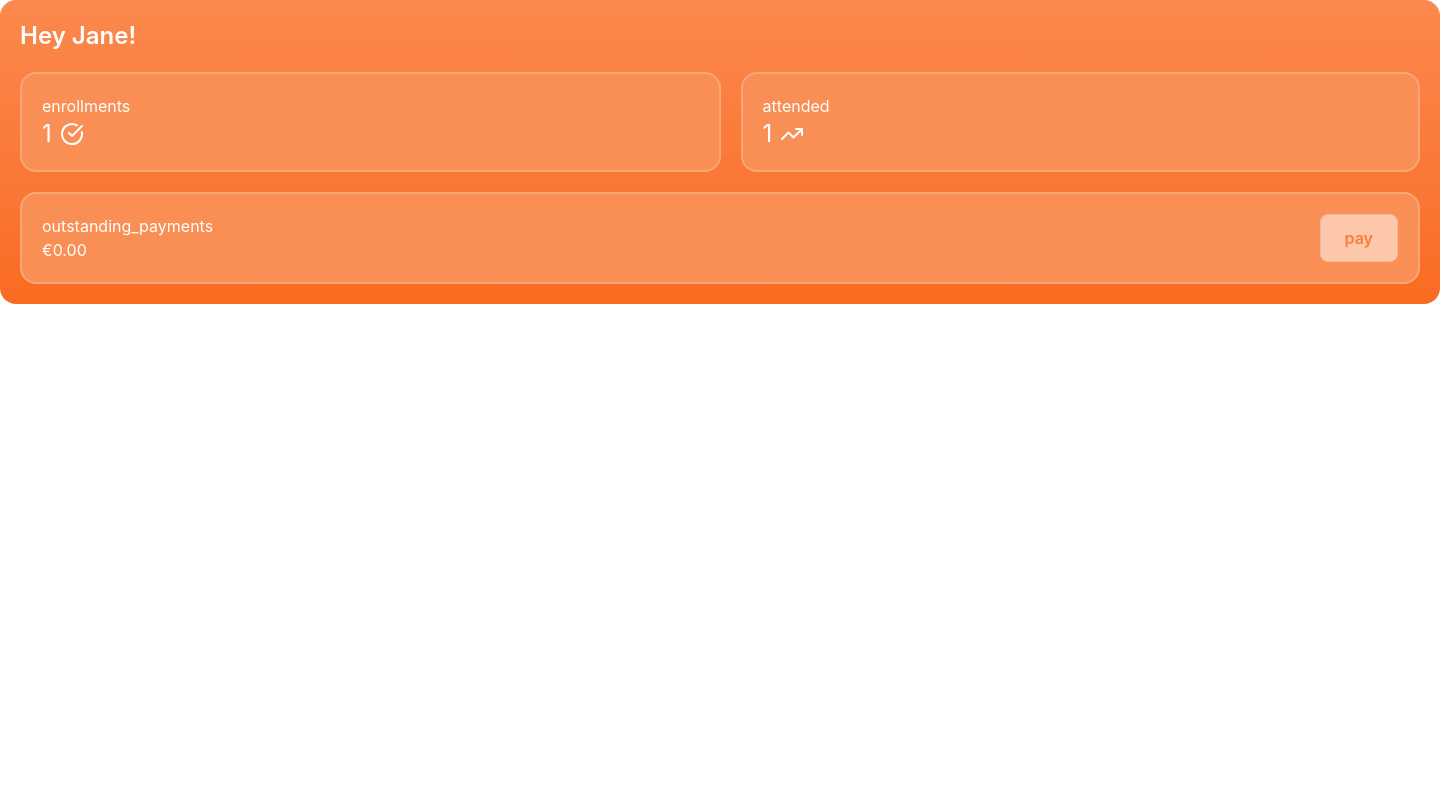
Test: DashboardHeader › opens a modal with the enrolled activities
Expected: the text "1" is shown 2 times, left=42, top=118, right=52, bottom=150; left=763, top=118, right=772, bottom=150
Click the text "enrollments" at (86, 106), box left=42, top=96, right=130, bottom=116
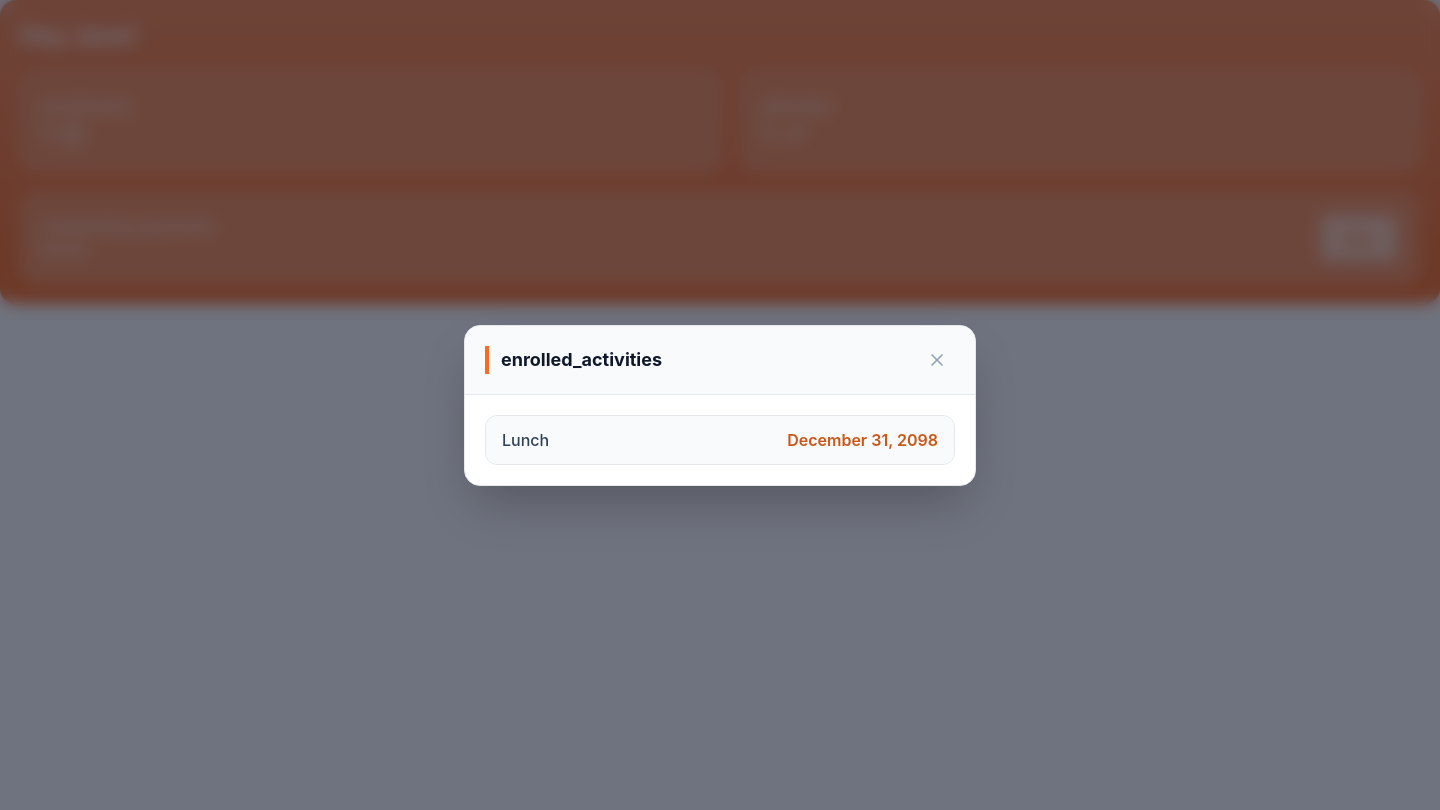
Now the heading "enrolled_activities" is shown, box left=485, top=346, right=662, bottom=374
Now the text "Lunch" is shown, box left=502, top=428, right=549, bottom=452
Click the button named "close_modal" at (937, 360), box left=919, top=342, right=955, bottom=378
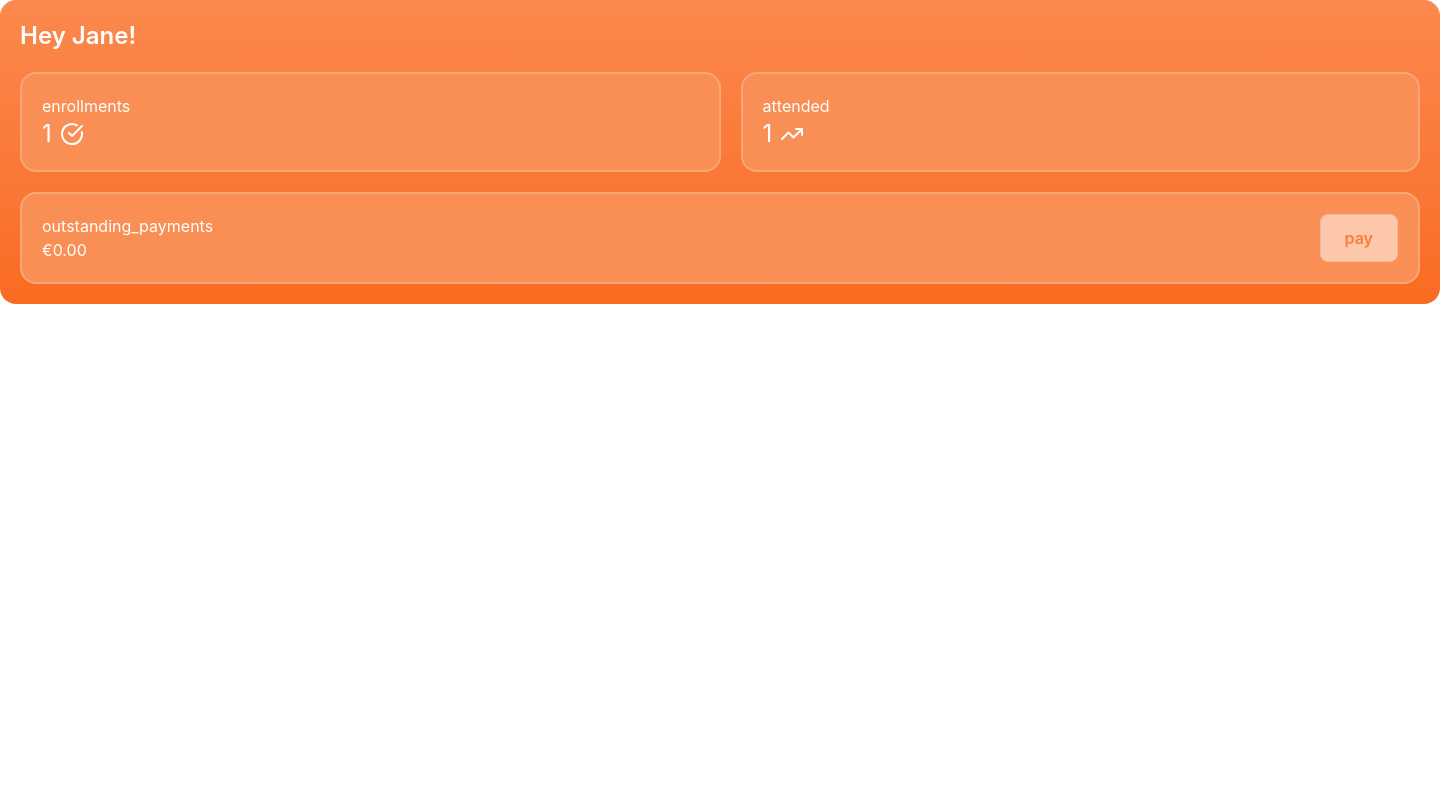
Now the heading "enrolled_activities" is gone
